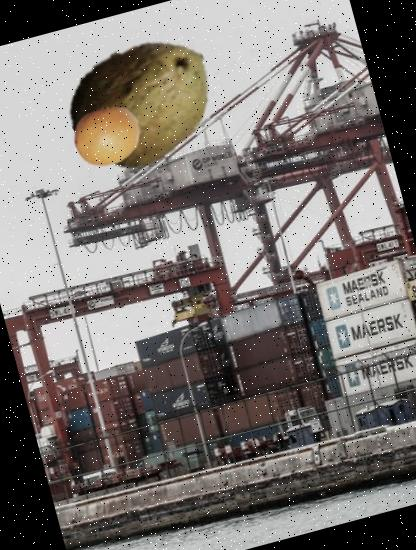Lemon: (65, 93, 150, 179)
Papaya: (52, 11, 236, 194)
